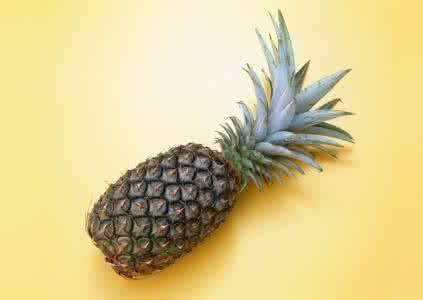pineapple: (78, 34, 350, 275)
